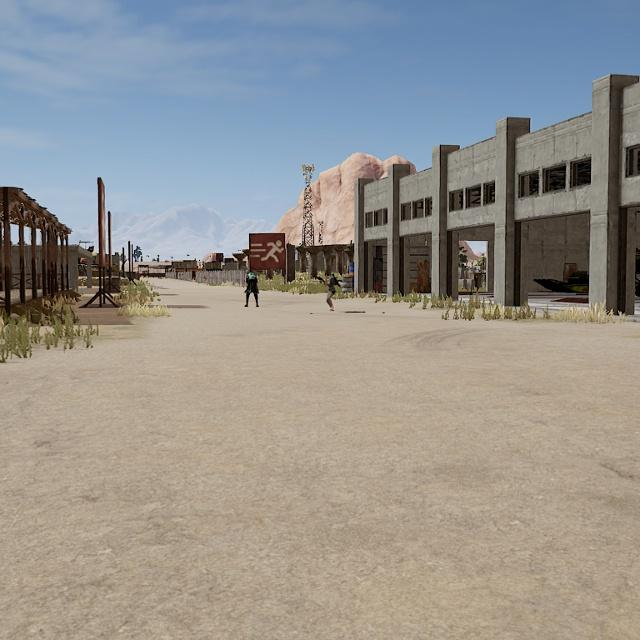head: (324, 270, 331, 278)
people: (323, 269, 339, 312), (243, 272, 260, 308)
